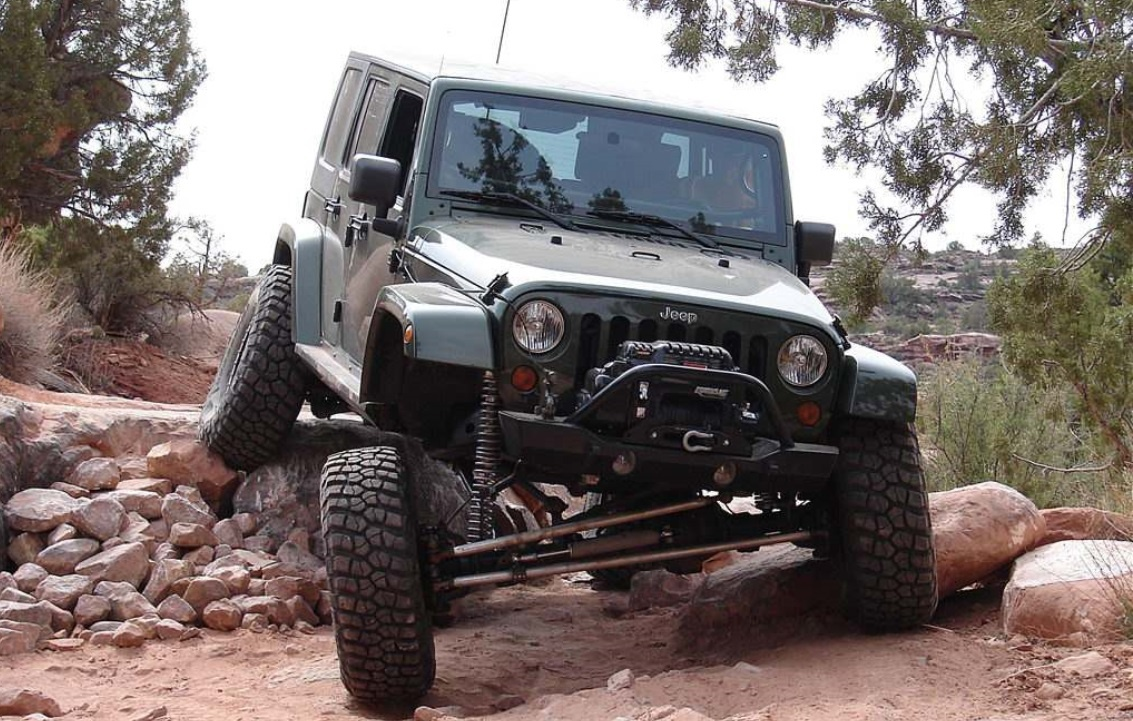jeep: (210, 61, 951, 669)
